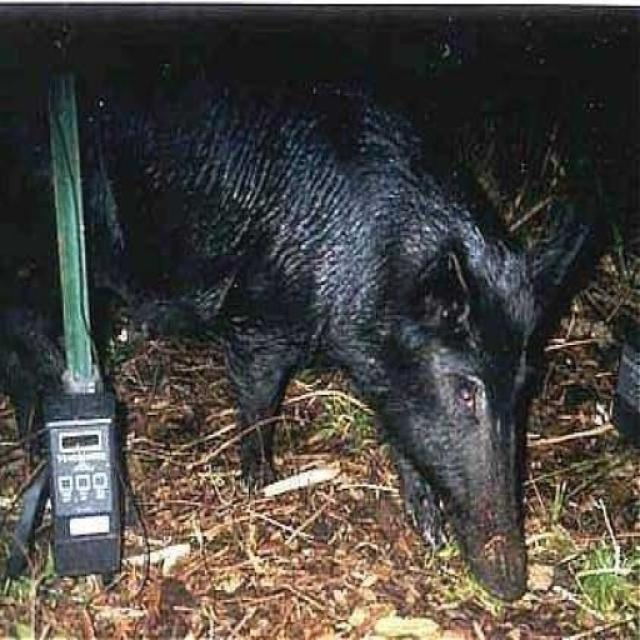pig: (117, 52, 582, 634)
